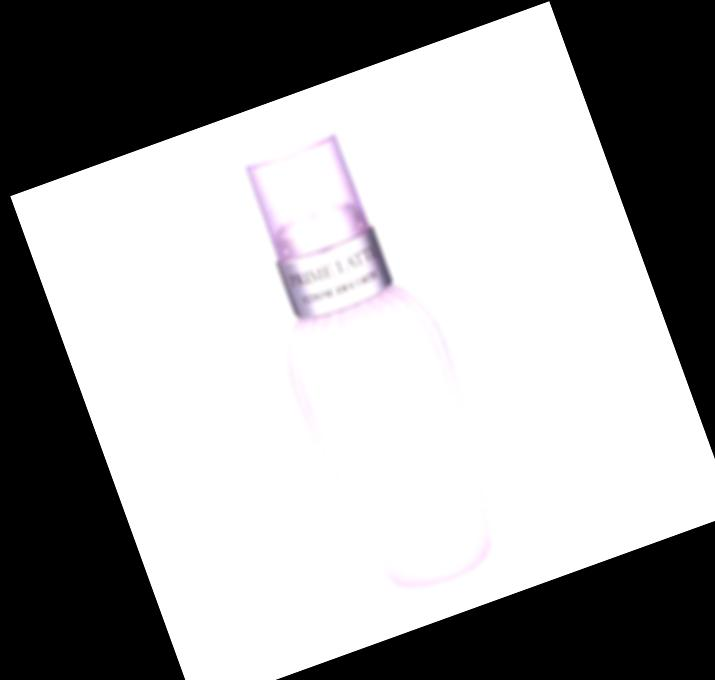cosmetic: (224, 118, 519, 607)
